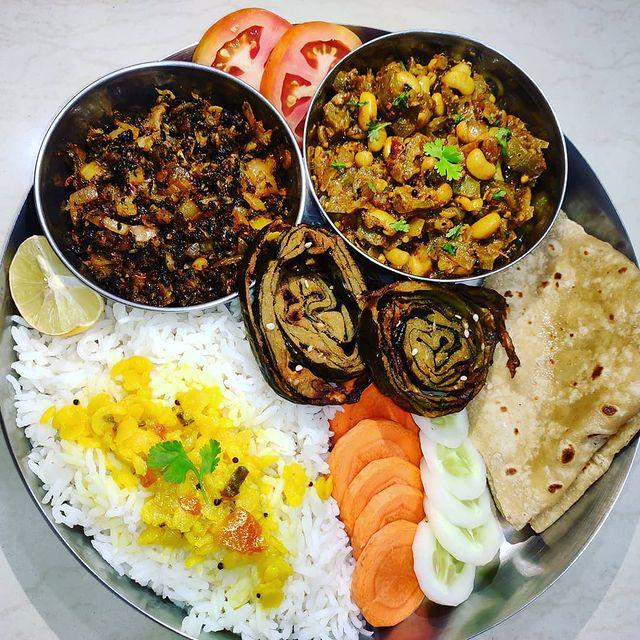Roti: (473, 201, 634, 538)
White Rice: (23, 296, 324, 637)
